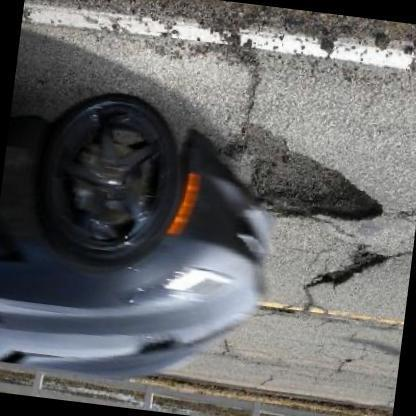pothole: (236, 120, 386, 223), (307, 244, 390, 292)
